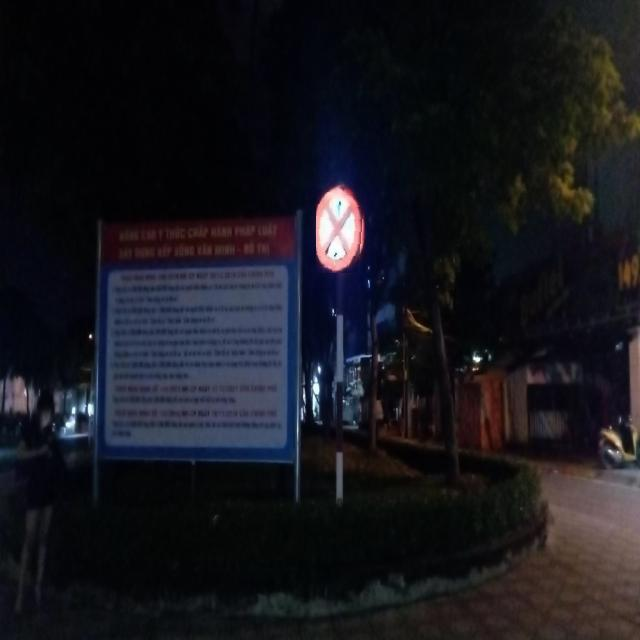cam_dung_xe_va_do_xe: (316, 185, 365, 274)
